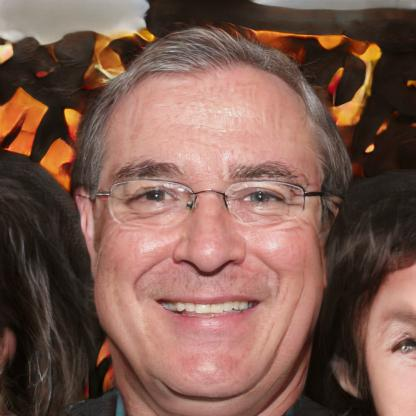glasses: (98, 169, 318, 234)
